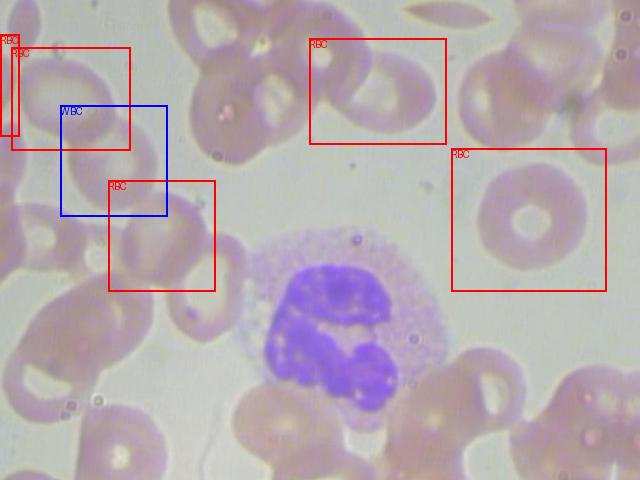RBC: (451, 148, 606, 291), (309, 38, 446, 144), (11, 47, 130, 150), (108, 180, 215, 291), (0, 34, 19, 136)
WBC: (60, 105, 167, 216)
